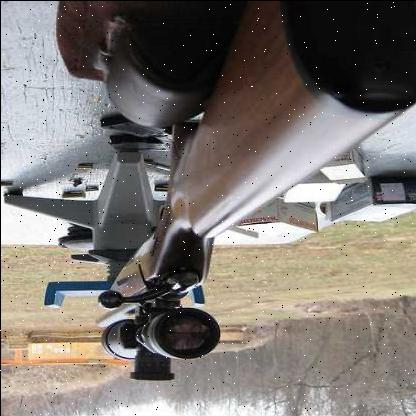rifle: (69, 1, 416, 388)
